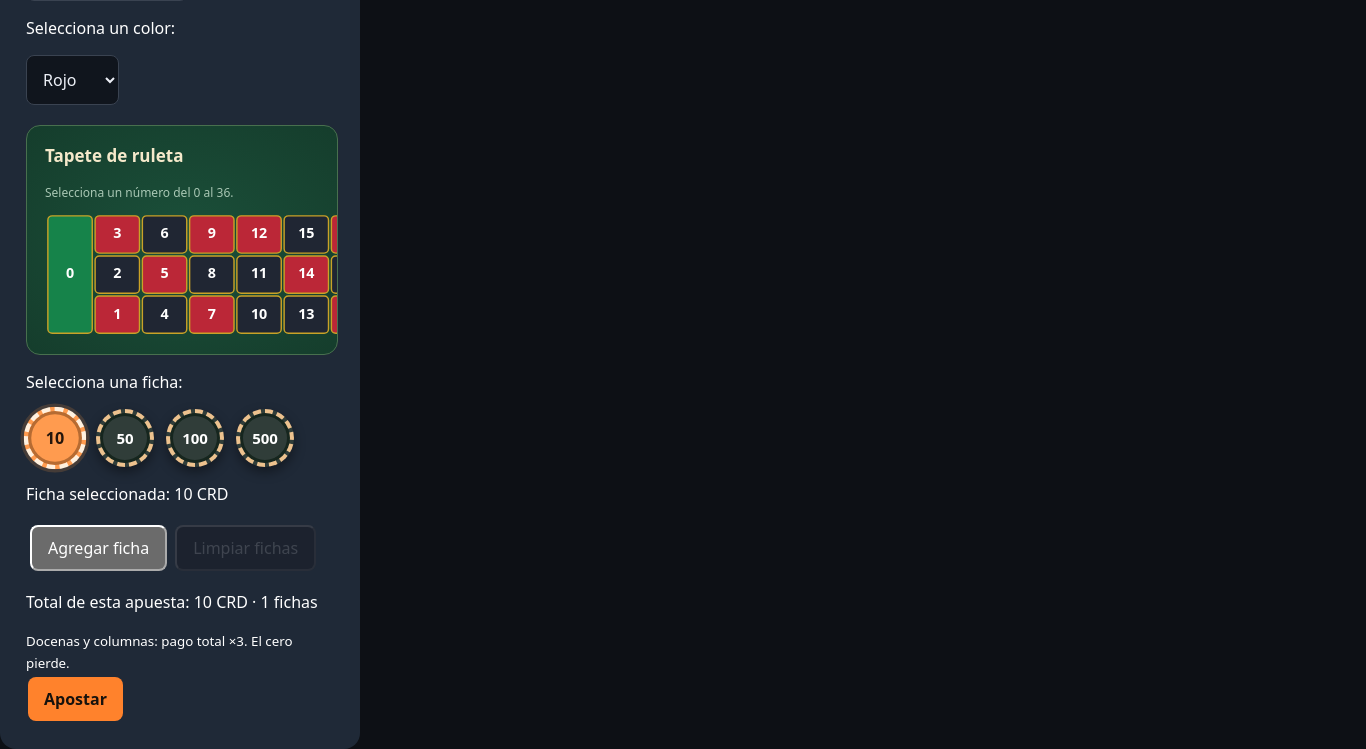
it: HU08 - Control de saldo insuficiente › permite cerrar la alerta
This screenshot has width=1366, height=749.
(page scrolled)
Click the button "Apostar".
click(75, 699)  # box [28, 677, 123, 721]
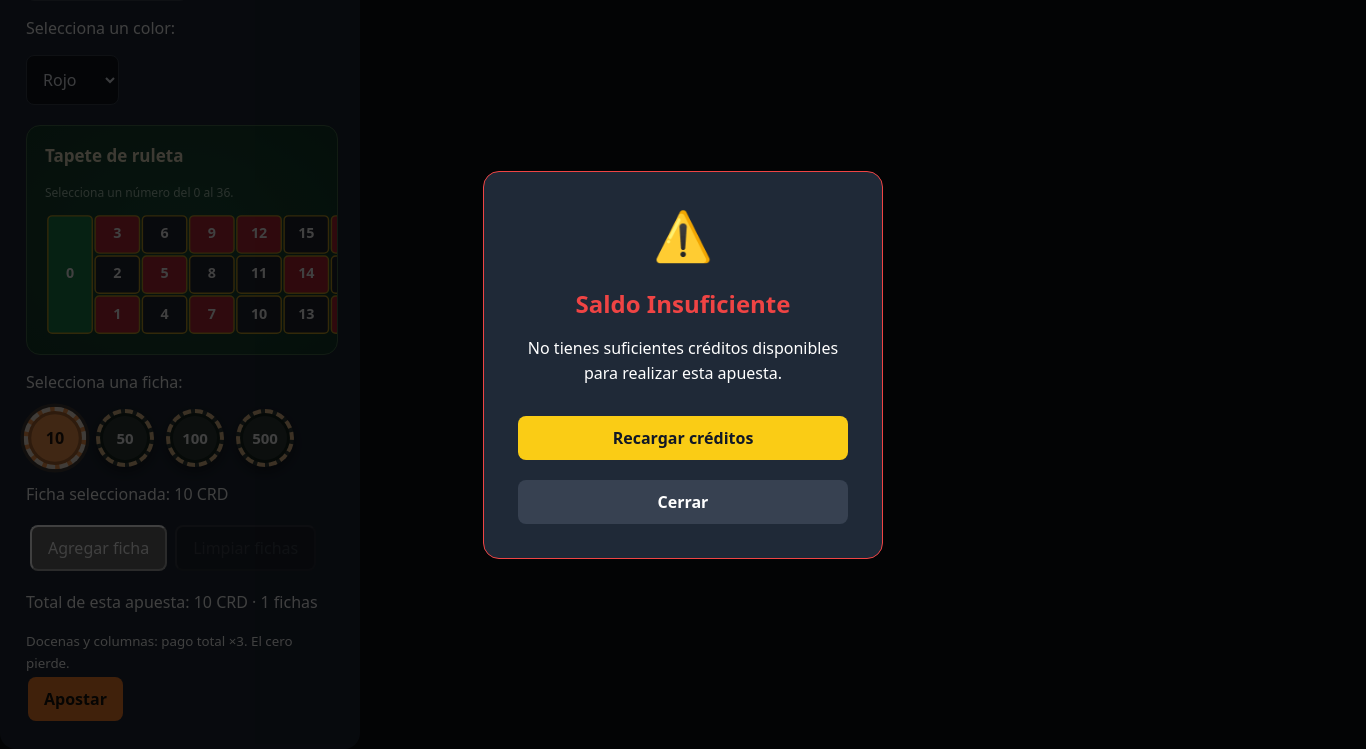
Click the button "Cerrar".
click(683, 502)  # box [518, 480, 848, 524]
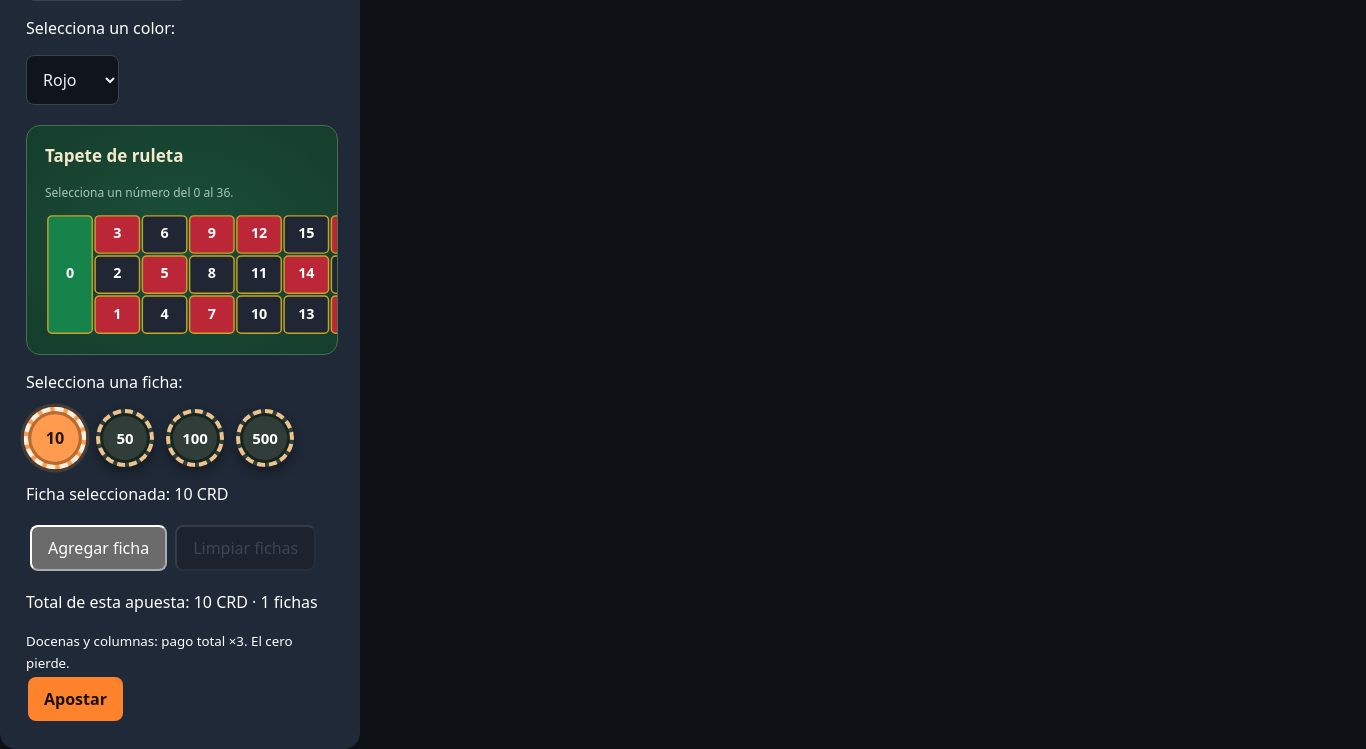
expect the dialog is gone: met
